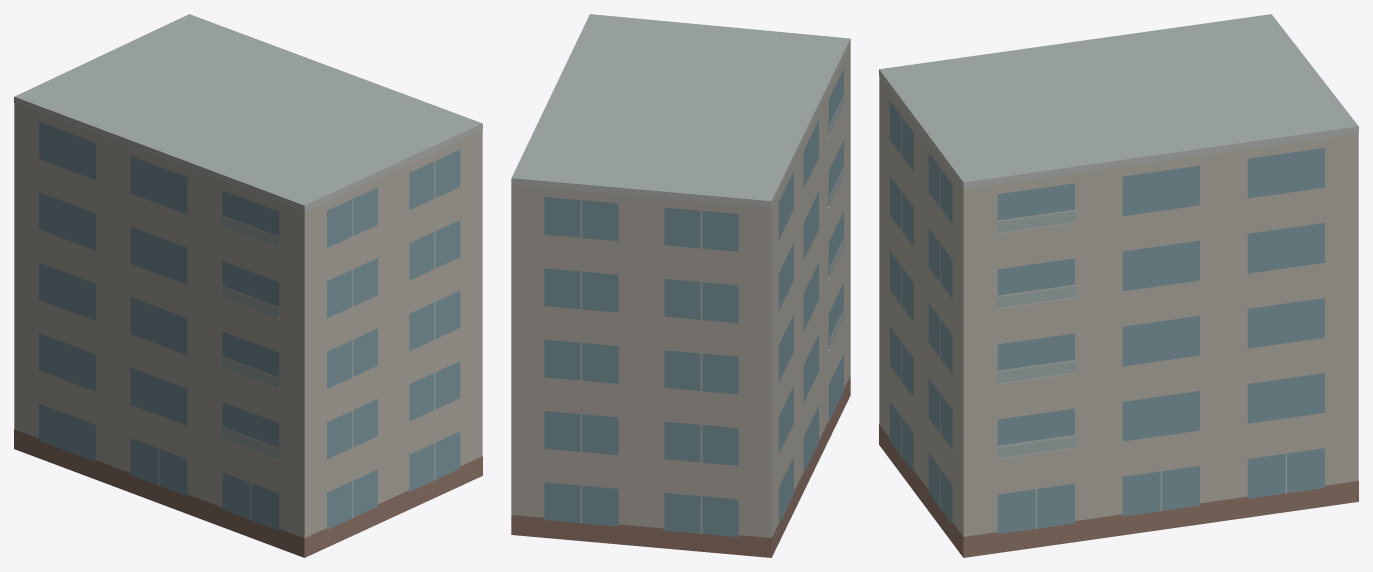
The model's file is survey-upis-32839624.glb.
3 views of the same model, side by side, from view 1: azimuth 30°, elevation 25°; view 2: azimuth 150°, elevation 25°; view 3: azimuth 270°, elevation 25° (orthographic). The views are drawn at different scales.
Parts seen in each view (by area): view 1: survey-upis-32839624.tmp; view 2: survey-upis-32839624.tmp; view 3: survey-upis-32839624.tmp.
Boxes of the visible parts, x1,y1,x2,y2 form: survey-upis-32839624.tmp: [14, 14, 482, 557]; survey-upis-32839624.tmp: [511, 14, 850, 557]; survey-upis-32839624.tmp: [879, 14, 1358, 557].
Size of the model in its own units: 13 by 13.5 by 15.64.
